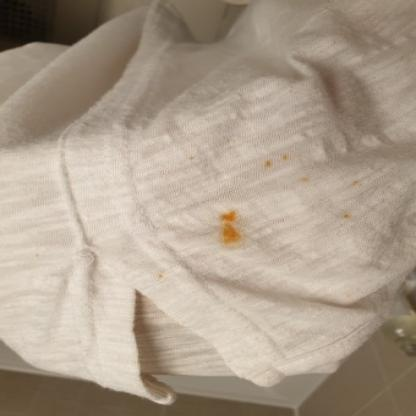kimchi: (221, 211, 243, 247), (261, 157, 274, 175), (296, 174, 313, 185), (278, 152, 293, 159), (347, 180, 357, 190), (155, 277, 166, 286), (341, 211, 351, 220), (189, 155, 198, 163)
